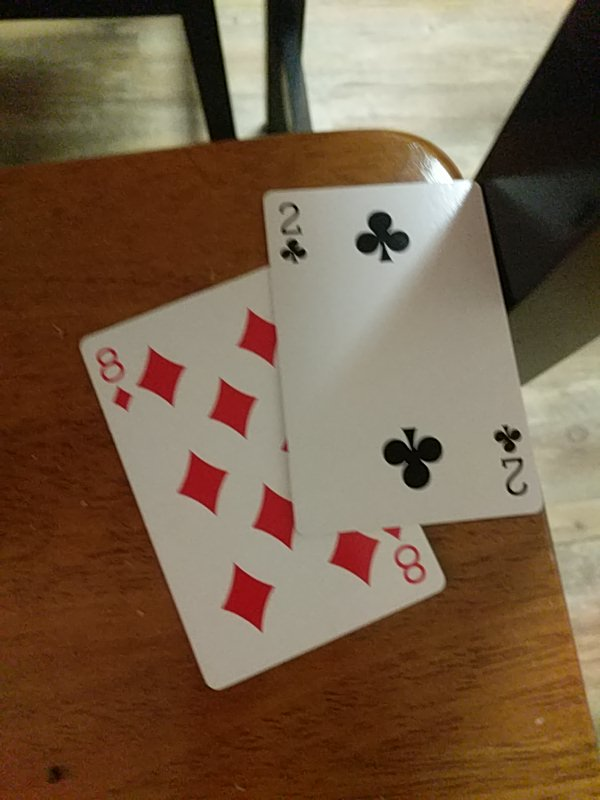Clubs: (262, 181, 546, 536)
Diamonds: (79, 262, 445, 690)
